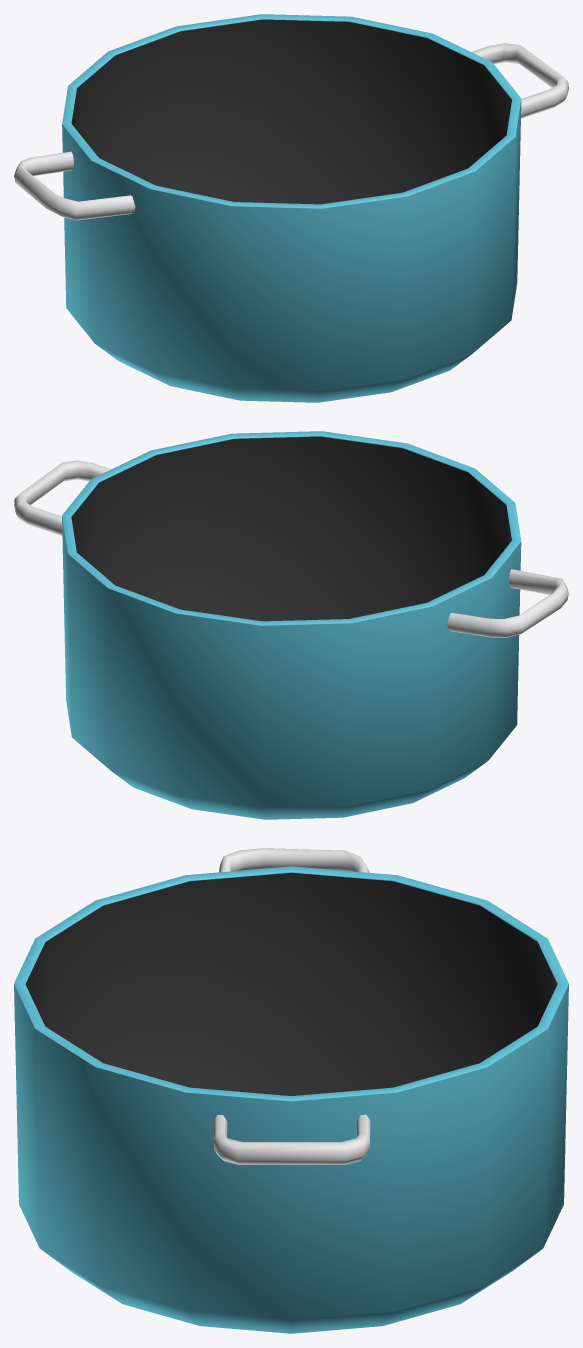
File: Large Pot Collision Mesh.fbx
3 renders of one model, top to bottom at view 1: azimuth 30°, elevation 25°; view 2: azimuth 150°, elevation 25°; view 3: azimuth 270°, elevation 25°, orthographic. The views are drawn at different scales.
Visible parts, largest first — view 1: Large Pot.001; view 2: Large Pot.001; view 3: Large Pot.001.
Part boxes in pixels (x1,y1,x2,y2): Large Pot.001: (14, 14, 568, 402); Large Pot.001: (14, 431, 568, 819); Large Pot.001: (14, 848, 568, 1333).
Size of the model in its own units: 256 by 102 by 200.
